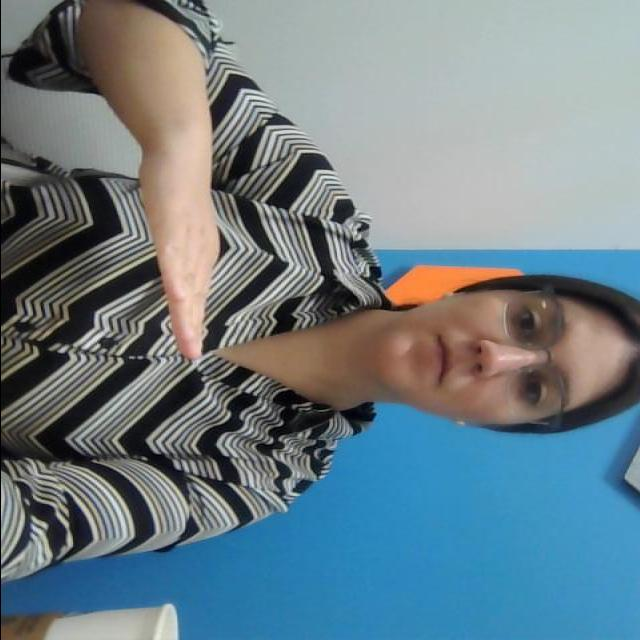Paper: (135, 132, 229, 366)
